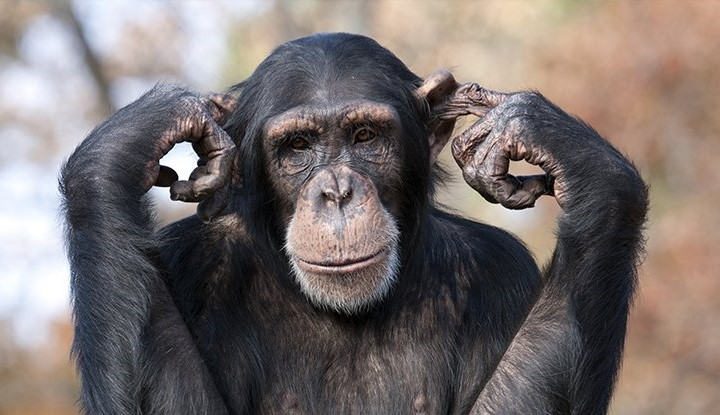Chimpanzee: (65, 39, 647, 406)
